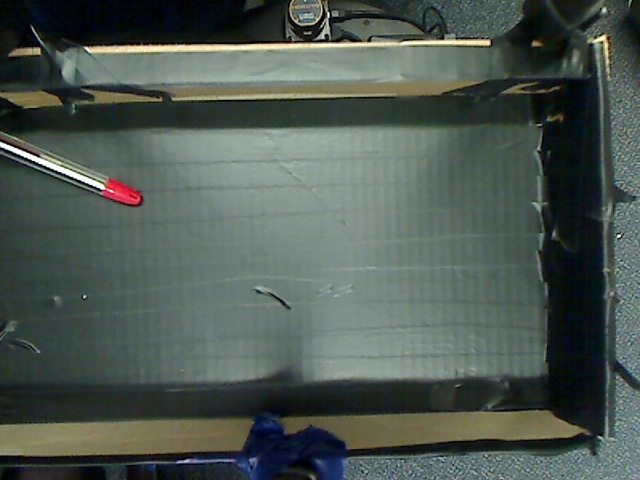pen: (1, 117, 155, 228)
